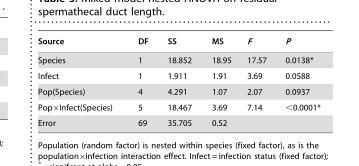table: (37, 36, 320, 127)
table column: (37, 36, 124, 127), (275, 36, 320, 127), (157, 36, 200, 127), (200, 36, 238, 127), (238, 36, 275, 127), (124, 36, 157, 127)
table column header: (37, 36, 320, 50)
table row: (37, 50, 320, 67), (37, 98, 320, 115), (37, 67, 320, 83), (37, 83, 320, 98), (37, 36, 320, 50), (37, 115, 320, 127)
